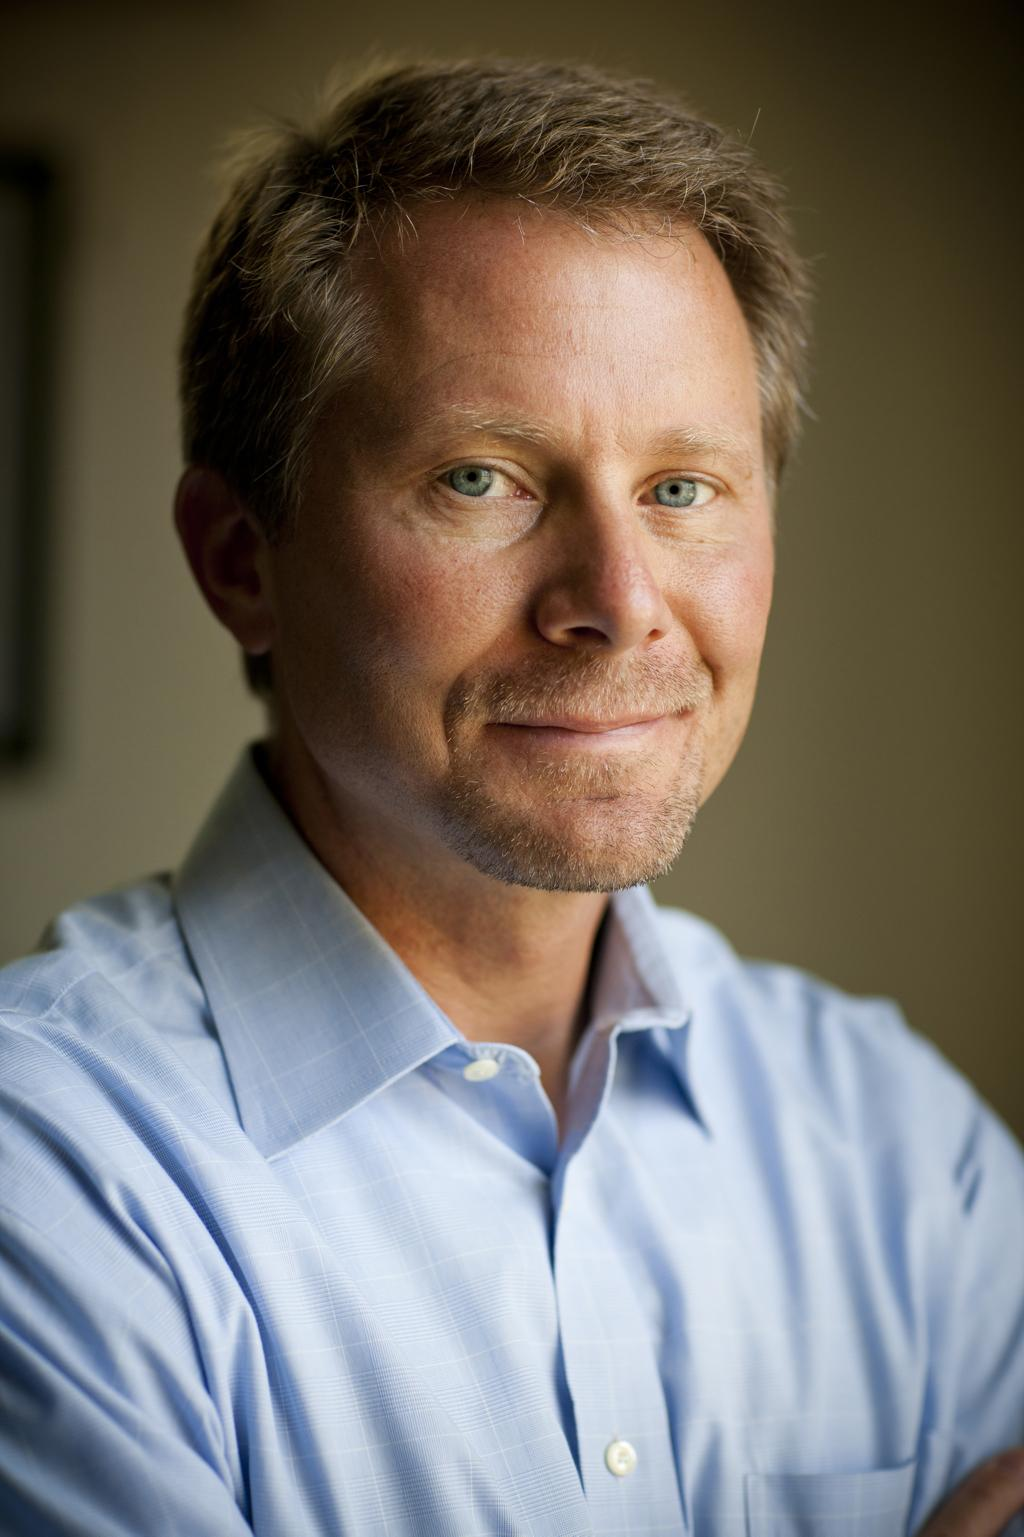face: (273, 195, 771, 889)
